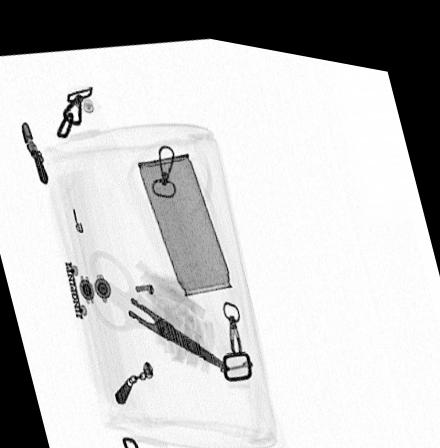Scissors: (84, 241, 234, 366)
